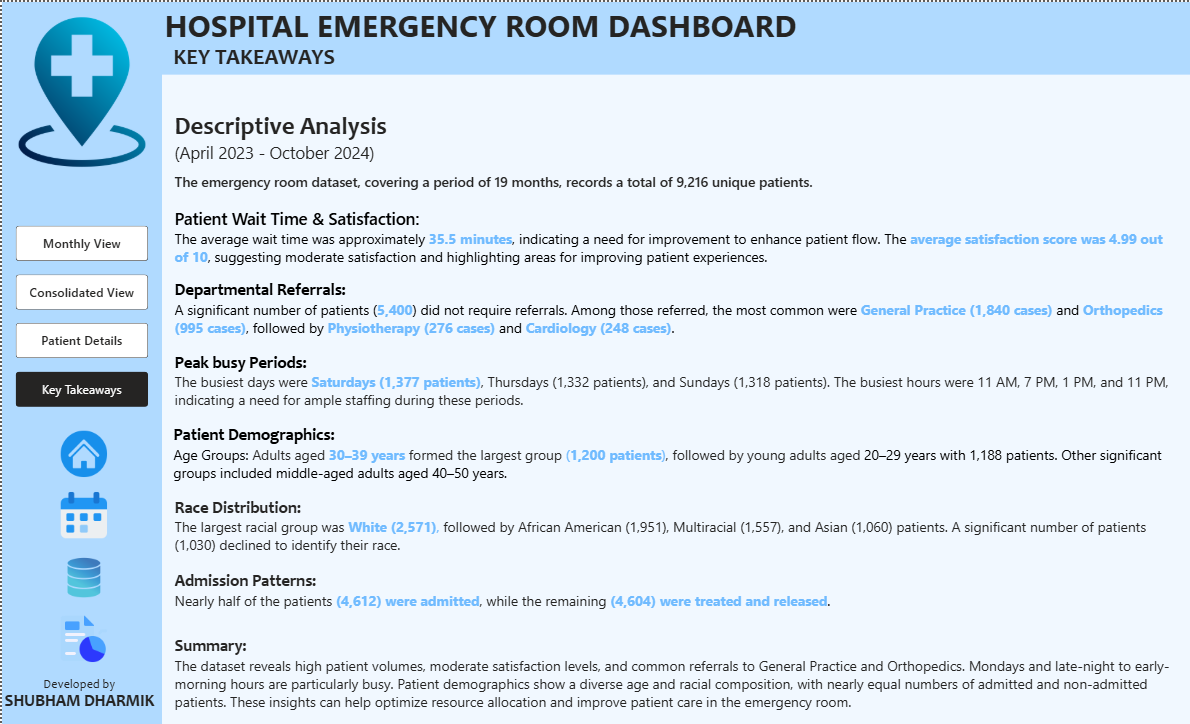

The page's visual inventory and layout, read from the dashboard file:
{"tool":"powerbi","page":{"name":"Key Takeaways","canvas":[2300,1400],"ordinal":3},"visuals":[{"type":"shape","box":[0,0,309.6,1400.5],"z":0},{"type":"shape","box":[310.7,0,1989.8,140.5],"z":1000},{"type":"textbox","box":[309.6,0,1260.2,104],"z":2000},{"type":"textbox","box":[326.5,75,399.1,65.3],"z":3000},{"type":"image","box":[4.8,23.7,299.9,299.9],"z":5000},{"type":"textbox","box":[329,205.6,570.8,118.5],"z":5001},{"type":"textbox","box":[329,324.1,1867.3,55.6],"z":5002},{"type":"textbox","box":[329,391.8,1939.9,140.3],"z":5003},{"type":"textbox","box":[329,532.1,1942.3,140.3],"z":5004},{"type":"textbox","box":[329,672.4,1939.9,140.3],"z":5005},{"type":"textbox","box":[326.5,812.7,1939.9,140.3],"z":5006},{"type":"textbox","box":[329,953,1939.9,140.3],"z":5008},{"type":"textbox","box":[328.7,1095.7,1971.3,106.4],"z":5009},{"type":"textbox","box":[329,1221.5,1939.9,166.9],"z":5011},{"type":"pageNavigator","box":[26.6,433,256.4,353.1],"z":5012},{"type":"image","box":[108.8,824.8,99.2,99.2],"z":5013},{"type":"image","box":[108.8,944.1,99.2,99.2],"z":5014},{"type":"image","box":[108.8,1063.5,99.2,99.2],"z":5015},{"type":"image","box":[108.8,1182.8,99.2,99.2],"z":5016},{"type":"textbox","box":[75,1298.9,159.6,48.4],"z":5017},{"type":"textbox","box":[0,1327.9,326.5,58.1],"z":5018}]}

Visuals, with their boxes in screenshot pixels (x1, y1, x2, y2), scaled from the page's 2300x1400 canvas onto the 1190x724 screenshot:
shape: x1=0, y1=0, x2=160, y2=723
shape: x1=161, y1=0, x2=1189, y2=73
textbox: x1=160, y1=0, x2=812, y2=54
textbox: x1=169, y1=39, x2=375, y2=73
image: x1=2, y1=12, x2=158, y2=167
textbox: x1=170, y1=106, x2=466, y2=168
textbox: x1=170, y1=168, x2=1136, y2=196
textbox: x1=170, y1=203, x2=1174, y2=275
textbox: x1=170, y1=275, x2=1175, y2=348
textbox: x1=170, y1=348, x2=1174, y2=420
textbox: x1=169, y1=420, x2=1173, y2=493
textbox: x1=170, y1=493, x2=1174, y2=565
textbox: x1=170, y1=567, x2=1189, y2=622
textbox: x1=170, y1=632, x2=1174, y2=718
pageNavigator: x1=14, y1=224, x2=146, y2=407
image: x1=56, y1=427, x2=108, y2=478
image: x1=56, y1=488, x2=108, y2=540
image: x1=56, y1=550, x2=108, y2=601
image: x1=56, y1=612, x2=108, y2=663
textbox: x1=39, y1=672, x2=121, y2=697
textbox: x1=0, y1=687, x2=169, y2=717
